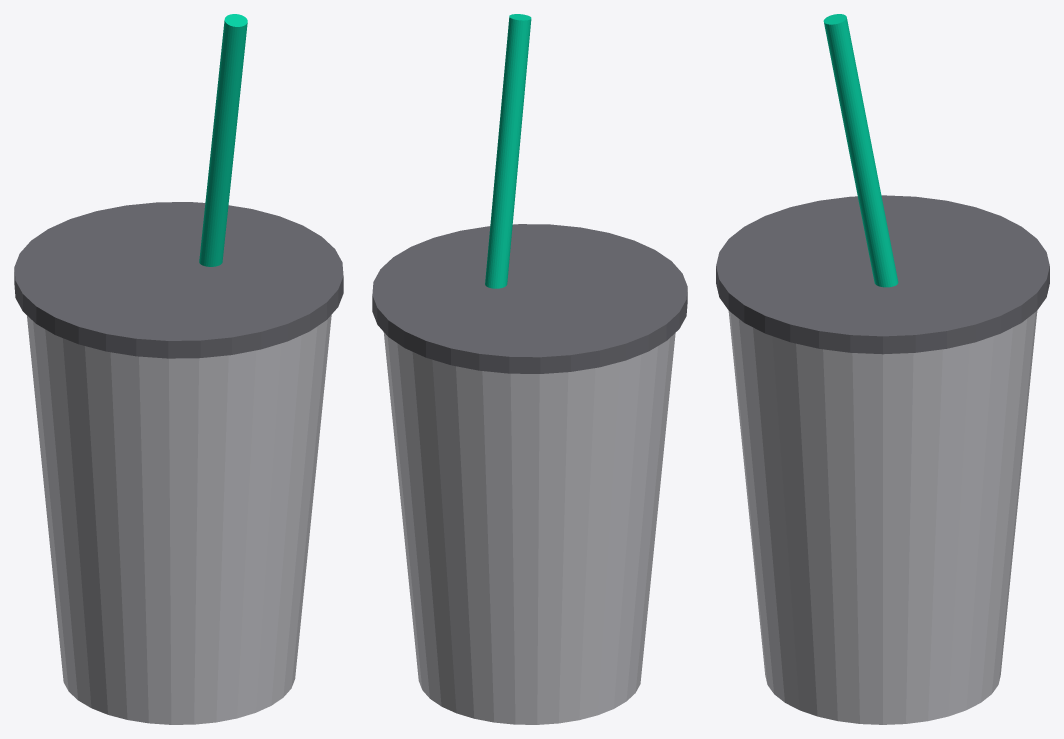
Rendered from boba_tea_cup.glb.
3 views of the same model, side by side, from view 1: azimuth 30°, elevation 25°; view 2: azimuth 150°, elevation 25°; view 3: azimuth 270°, elevation 25° (orthographic). The views are drawn at different scales.
Parts seen in each view (by area): view 1: Cone, Cylinder, Cylinder.001; view 2: Cone, Cylinder, Cylinder.001; view 3: Cone, Cylinder, Cylinder.001.
Part boxes in pixels (left/top/right/bottom): Cone: left=27, top=315, right=331, bottom=724; Cylinder: left=14, top=202, right=343, bottom=358; Cylinder.001: left=199, top=14, right=247, bottom=266; Cone: left=383, top=332, right=675, bottom=724; Cylinder: left=372, top=224, right=687, bottom=373; Cylinder.001: left=485, top=14, right=531, bottom=288; Cone: left=728, top=311, right=1037, bottom=724; Cylinder: left=716, top=195, right=1049, bottom=354; Cylinder.001: left=823, top=14, right=898, bottom=287.
Size of the model in its own units: 1.7 by 3.79 by 1.7.
